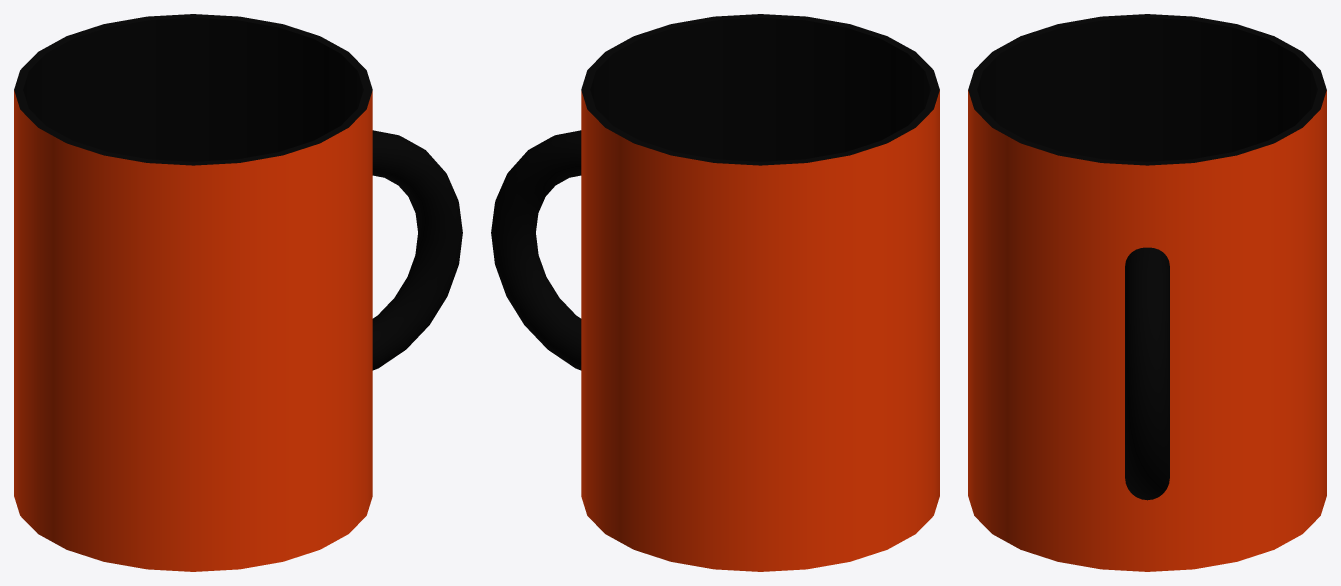
Rendered from mug_19_orgin_gt_7.dae.
3 views of the same model, side by side, from view 1: azimuth 30°, elevation 25°; view 2: azimuth 150°, elevation 25°; view 3: azimuth 270°, elevation 25° (orthographic).
Visible parts, largest first — view 1: SketchUp (×3), group_0; view 2: SketchUp (×3), group_0; view 3: SketchUp (×3), group_0.
Part boxes in pixels (x1=…): SketchUp (×3): x1=14, y1=14, x2=372, y2=571; group_0: x1=372, y1=130, x2=462, y2=370; SketchUp (×3): x1=581, y1=14, x2=939, y2=571; group_0: x1=491, y1=130, x2=581, y2=370; SketchUp (×3): x1=968, y1=14, x2=1326, y2=571; group_0: x1=1125, y1=247, x2=1169, y2=500.
Size of the model in its own units: 4.28 by 3.15 by 3.94.
